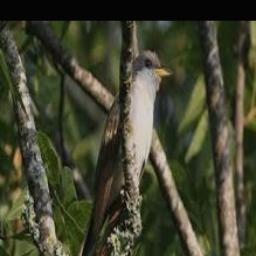Cuckoo: (72, 50, 173, 256)
